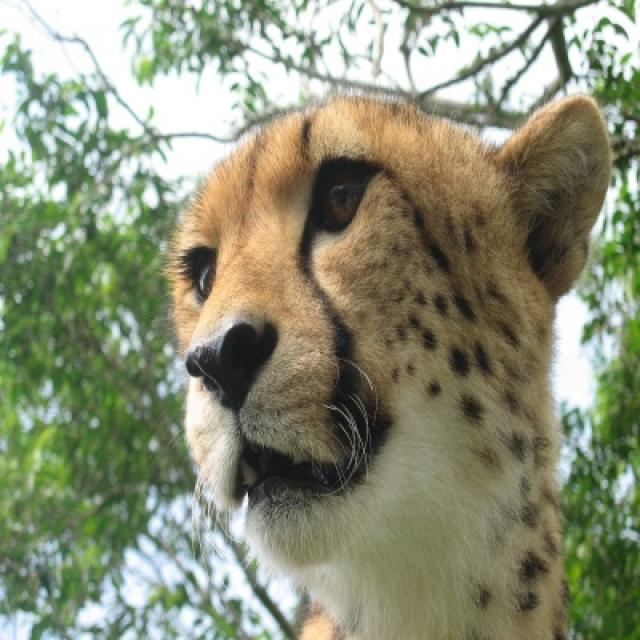Cheetah: (165, 94, 614, 638)
